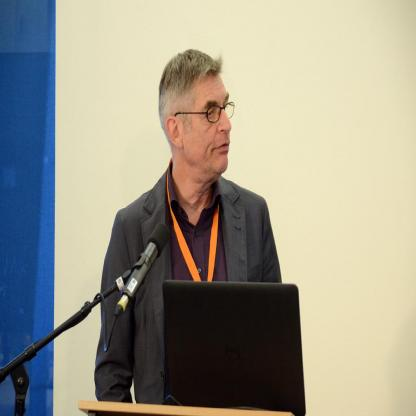board: (165, 278, 307, 414)
